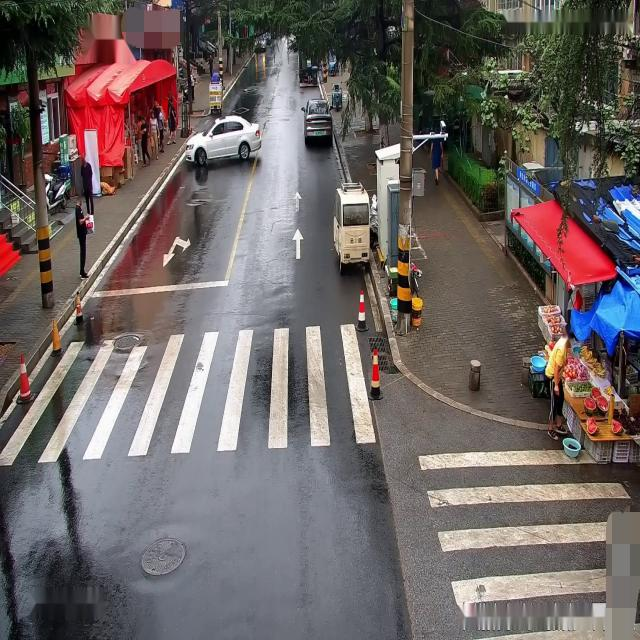fixed_stall: (536, 302, 639, 468), (124, 94, 168, 160)
sunshade: (508, 195, 616, 287), (62, 54, 177, 106), (571, 270, 638, 342)
